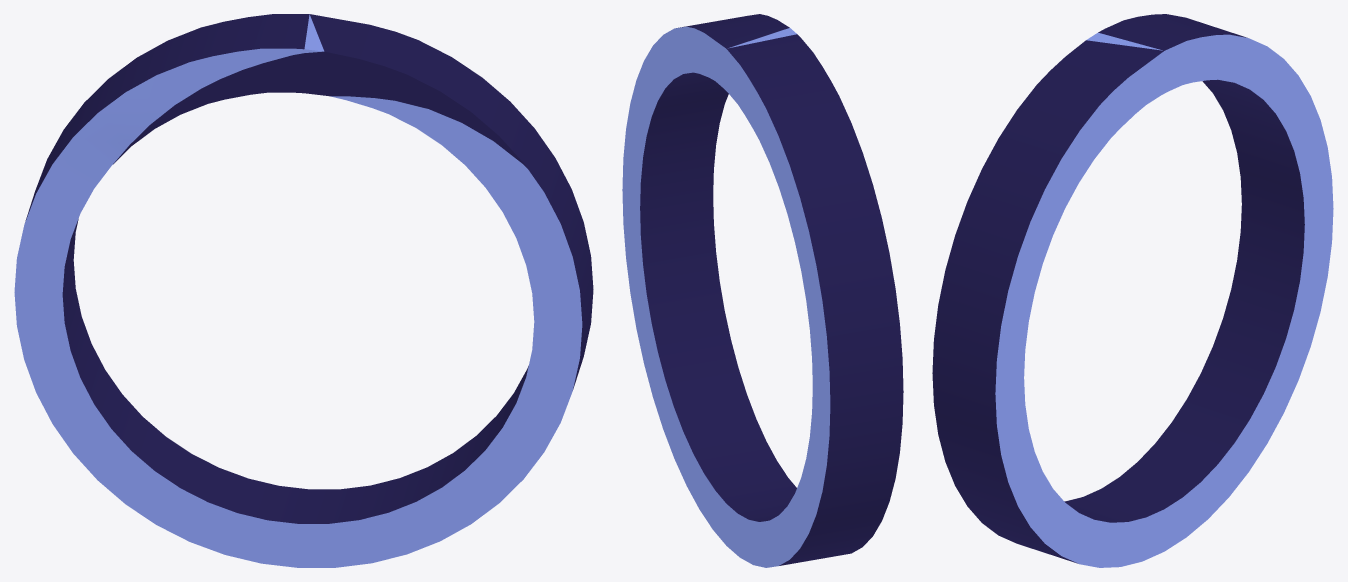
File: interlocking_circles.glb
The picture shows the model from 3 angles, left to right: view 1: azimuth 30°, elevation 25°; view 2: azimuth 150°, elevation 25°; view 3: azimuth 270°, elevation 25°; orthographic projection. The views are drawn at different scales.
Parts seen in each view (by area): view 1: Torus_0; view 2: Torus_0; view 3: Torus_0.
Part boxes in pixels (box(x1,y1,x2,y2)): Torus_0: box(14, 14, 593, 567); Torus_0: box(622, 14, 903, 567); Torus_0: box(932, 14, 1333, 567).
Size of the model in its own units: 1.92 by 2.19 by 1.59.
